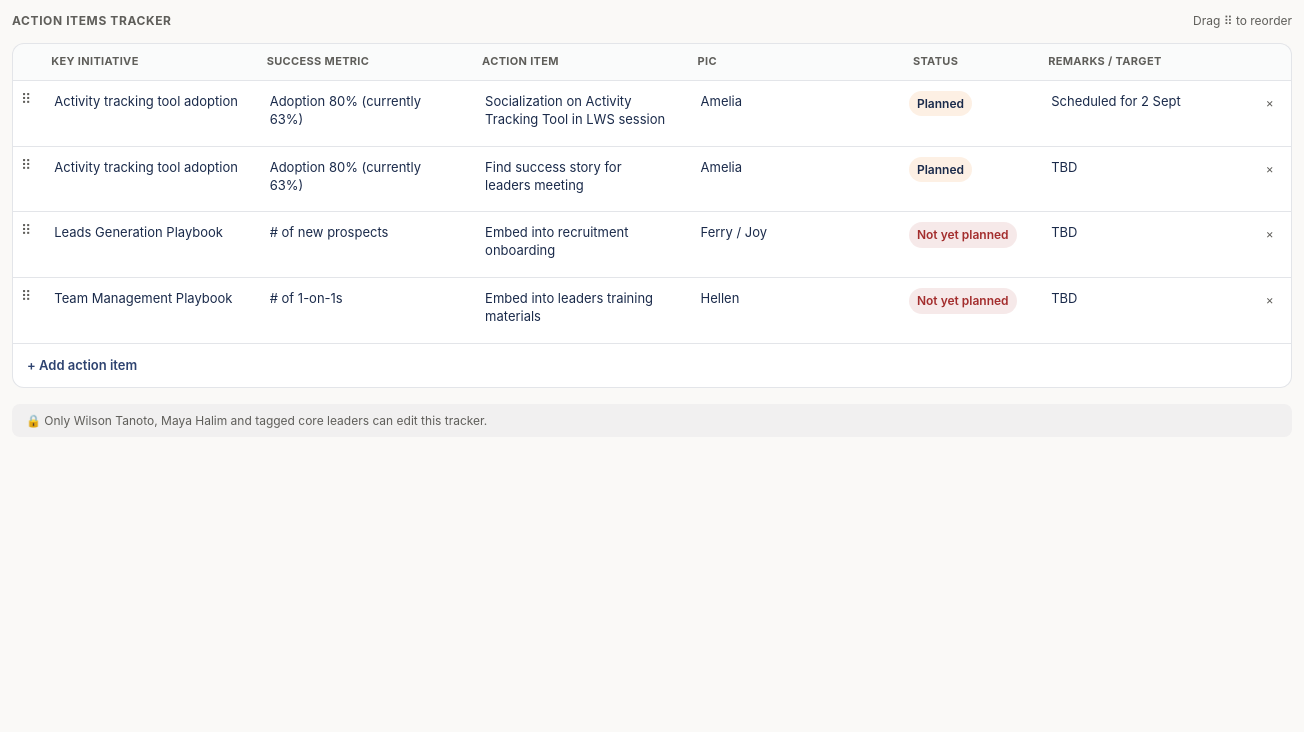
Test: P18.1-T2 AC-6 writing the tracker › the status cycles one step, shown at once; *"Status updated"*; the open items follow
The width and height of the screenshot is (1304, 732).
Click the button with aria-label "Planned. Change to Implemented".
click(940, 104)  # box [909, 91, 972, 116]
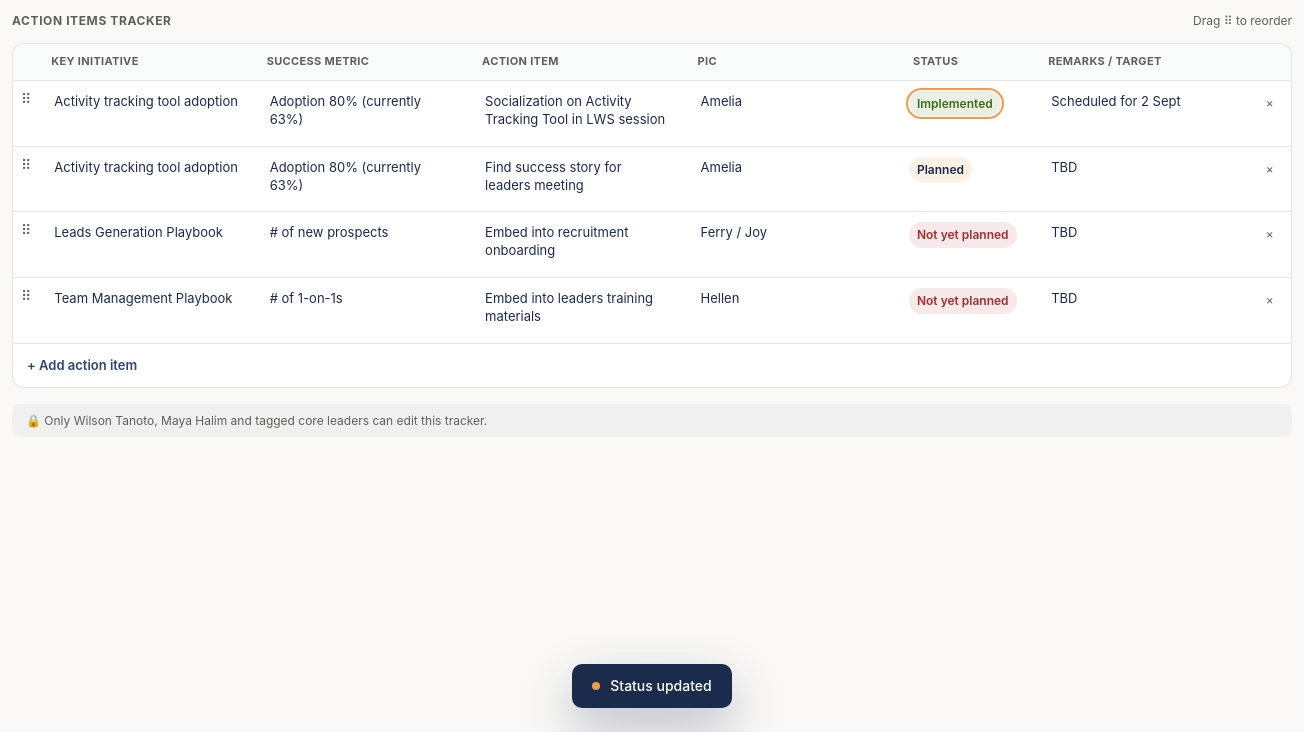
Result: the text "Status updated" is shown at [572, 664, 732, 708]
